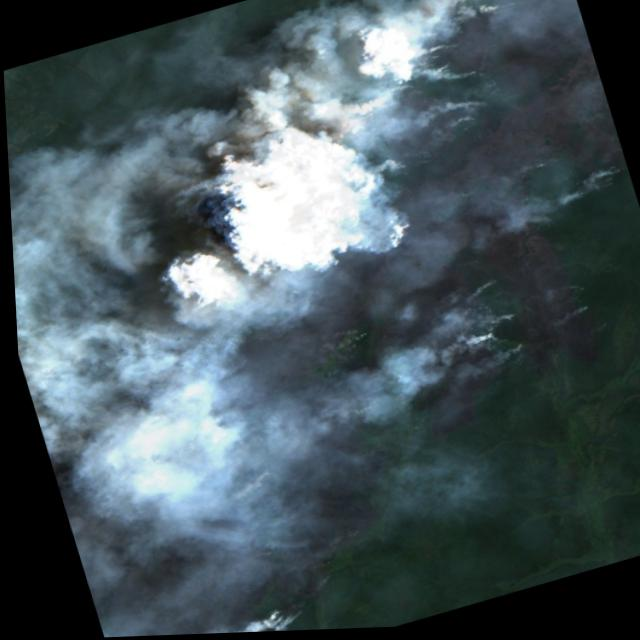fire: (442, 276, 531, 387), (411, 36, 488, 135), (568, 161, 628, 208), (551, 271, 598, 329), (252, 595, 311, 633), (450, 0, 512, 36), (510, 153, 555, 189)
